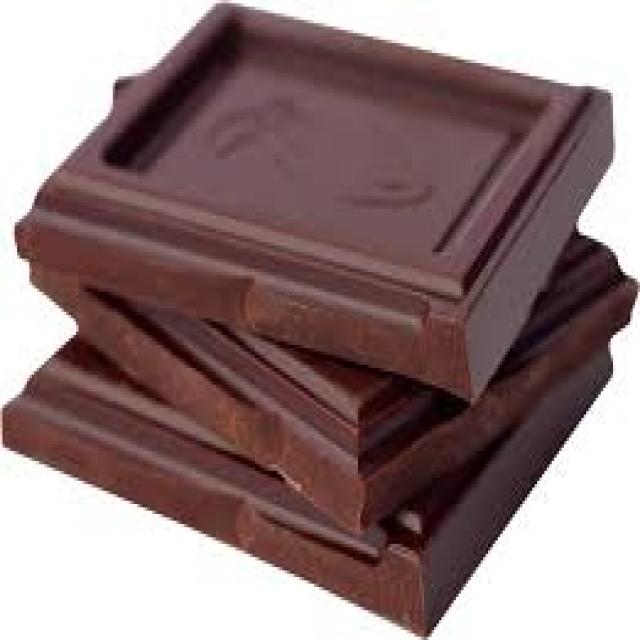chocolate: (0, 6, 640, 640)
